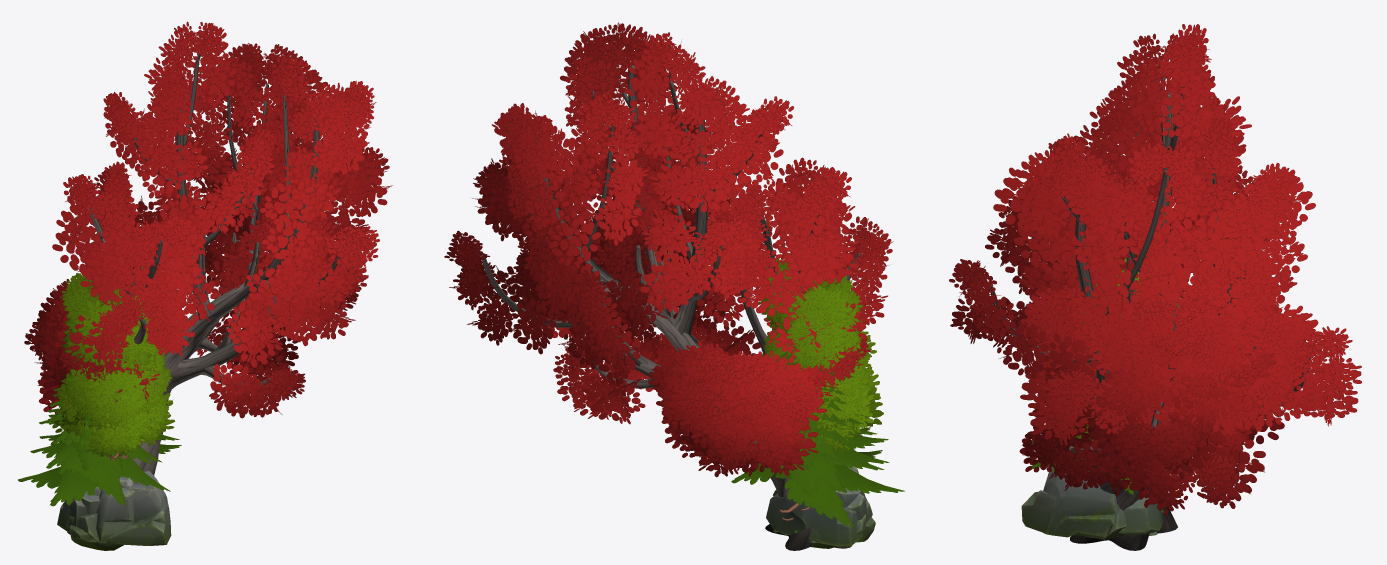
The model's file is nature_kit.glb.
3 renders of one model, left to right at view 1: azimuth 30°, elevation 25°; view 2: azimuth 150°, elevation 25°; view 3: azimuth 270°, elevation 25°, orthographic. The views are drawn at different scales.
Parts seen in each view (by area): view 1: TwistedTree_1, CommonTree_3, Pine_2, CommonTree_1, Rock_Medium_3, CommonTree_2, Rock_Medium_1, CommonTree_4, Pine_1, Rock_Medium_2; view 2: TwistedTree_1, Pine_2, CommonTree_3, Rock_Medium_2, CommonTree_4, CommonTree_1, Pine_1, CommonTree_2, Pine_3, Rock_Medium_3; view 3: TwistedTree_1, Rock_Medium_3, Rock_Medium_2.
Part boxes in pixels (x1,y1,x2,y2): TwistedTree_1: (24, 21, 392, 534); CommonTree_3: (61, 283, 172, 433); Pine_2: (18, 357, 181, 506); CommonTree_1: (54, 349, 175, 456); Rock_Medium_3: (70, 470, 171, 550); CommonTree_2: (57, 338, 172, 459); Rock_Medium_1: (66, 476, 134, 543); CommonTree_4: (65, 266, 158, 355); Pine_1: (30, 354, 169, 481); Rock_Medium_2: (57, 491, 99, 533); TwistedTree_1: (444, 22, 893, 550); Pine_2: (731, 358, 904, 526); CommonTree_3: (766, 262, 876, 432); Rock_Medium_2: (766, 488, 862, 546); CommonTree_4: (758, 258, 863, 381); CommonTree_1: (761, 332, 883, 451); Pine_1: (765, 347, 889, 513); CommonTree_2: (763, 330, 882, 442); Pine_3: (765, 351, 877, 520); Rock_Medium_3: (773, 490, 875, 542); TwistedTree_1: (949, 24, 1361, 550); Rock_Medium_3: (1021, 465, 1120, 537); Rock_Medium_2: (1118, 497, 1162, 534).
Bounding box in the file's own units: 14.23 × 16.84 × 11.55.
Materials: 12 (12 with a texture image).
